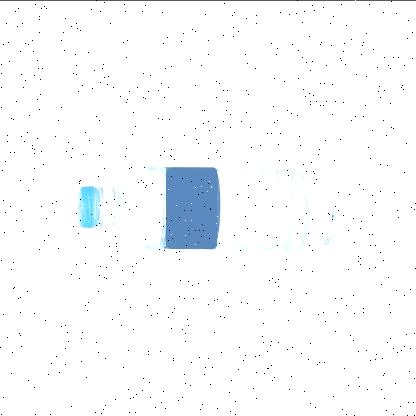Plastic Bottle: (71, 158, 349, 256)
